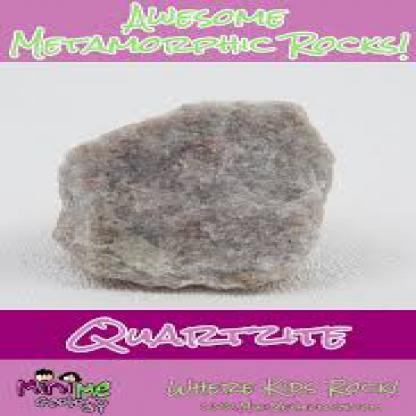Metamorphic_Quartize: (36, 85, 348, 295)
